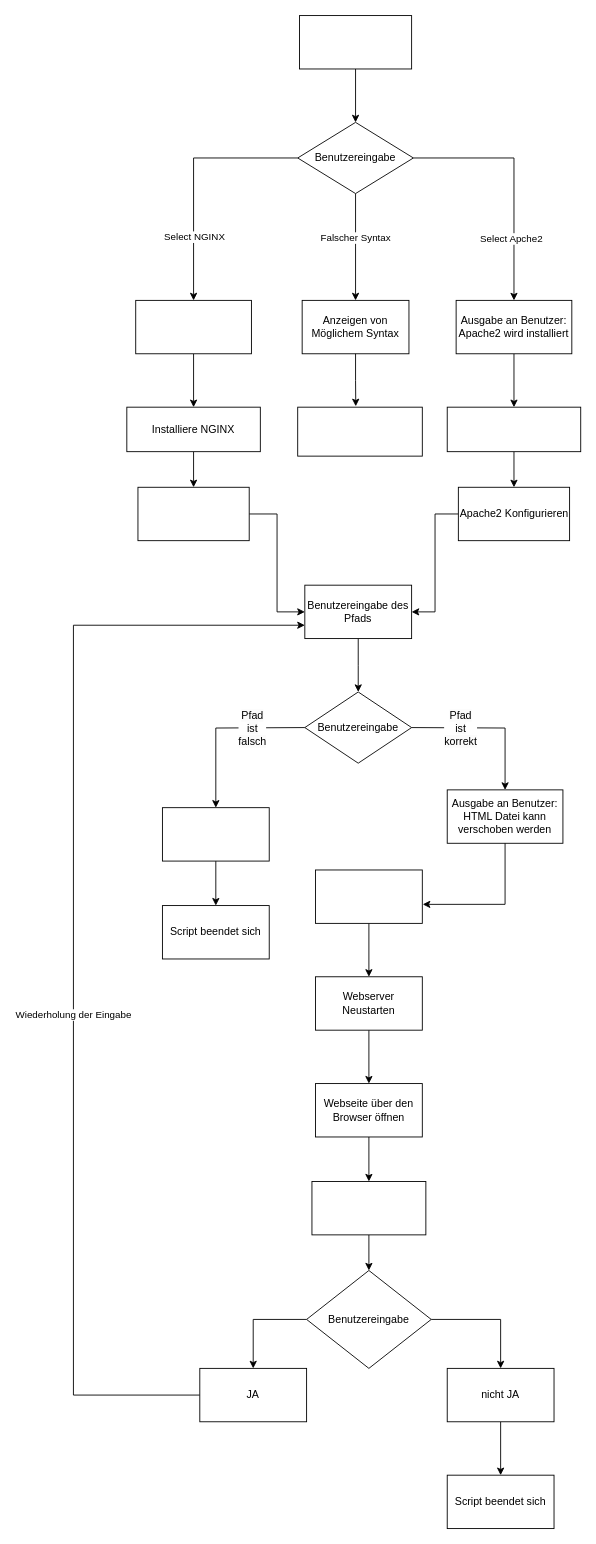
The diagram is 596 pixels wide and 1544 high, and some of its shapes have lost their labels. Each missing label, with the centre of its shape:
"Ausgabe an Benutzer: NGINX wird installiert" goes at (193,326).
"Ausgabe an Benutzer: Weitere Dateien Hochladen?" goes at (368,1208).
"Fehlermeldung" goes at (215,834).
"HTML Datei zum jeweiligen Webserver verschieben" goes at (368,896).
"Installiere Apache2" goes at (513,429).
"NGINX Konfigurieren" goes at (193,513).
"Script starten" goes at (355,42).
"Script wird beendet" goes at (359,431).
